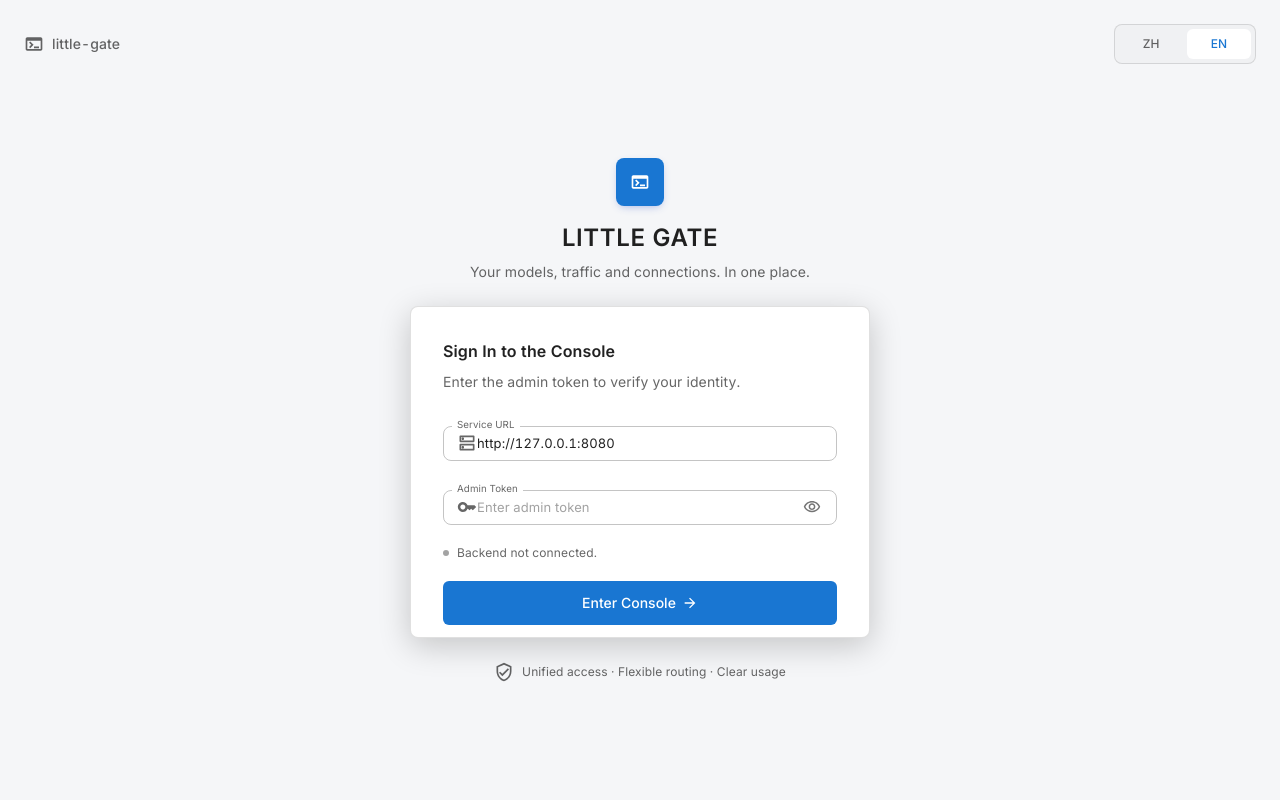
Scenario: admin console smoke test › keeps the connection gate closed when the submitted admin token is rejected
The image size is (1280, 800).
Type "wrong-token" into the password field with placeholder "Enter admin token" at (638, 507), box [477, 490, 798, 525]
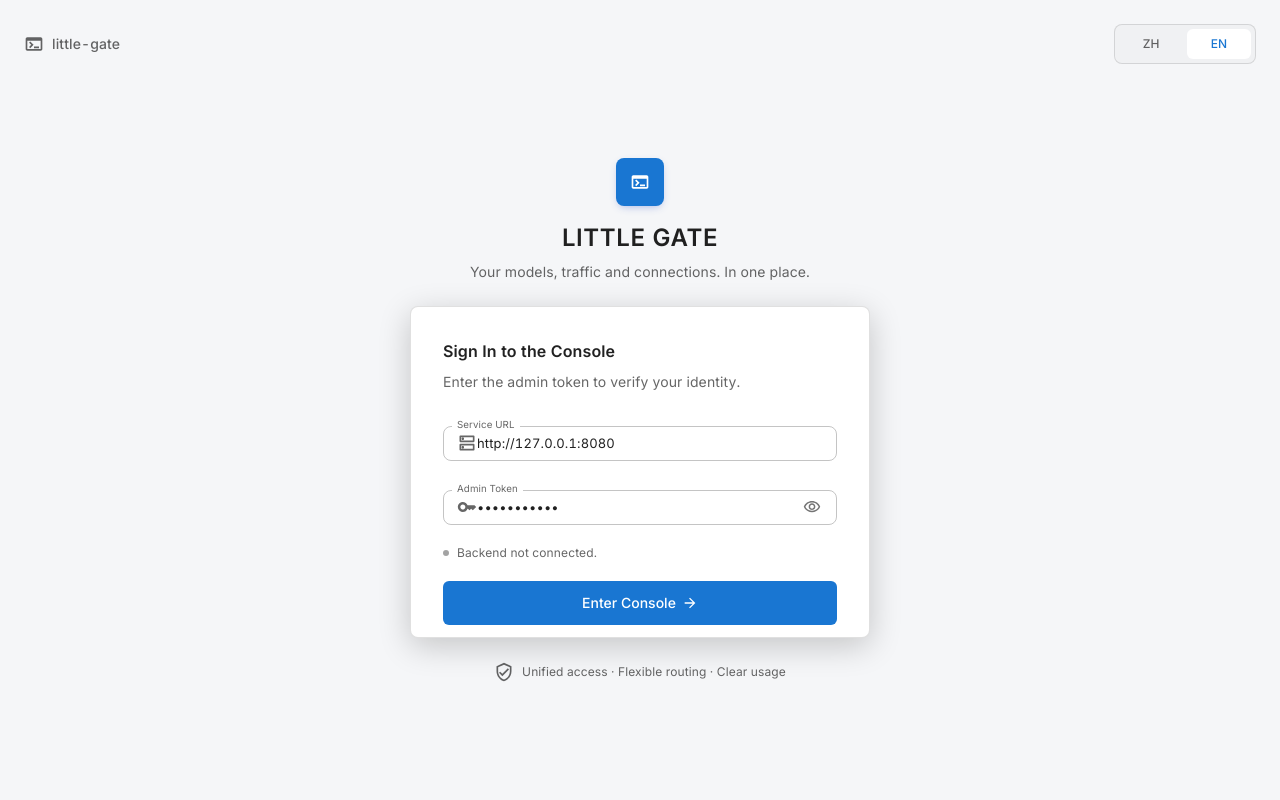
Click the button "Enter Console" at (640, 603), box [443, 581, 837, 625]
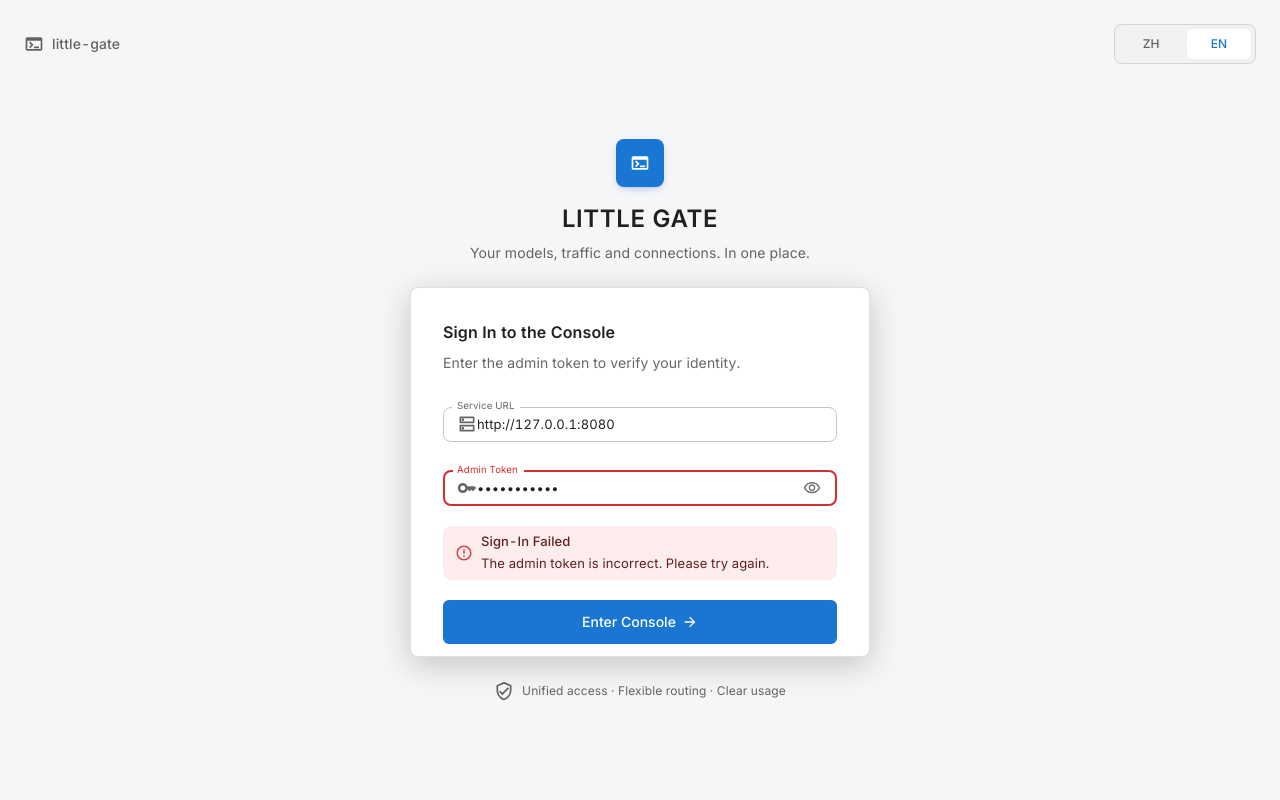
expect the button "Enter Console" is shown: met, box [443, 600, 837, 644]
expect the text "The admin token is incorrect. Please try again." is shown: met, box [481, 554, 769, 572]
